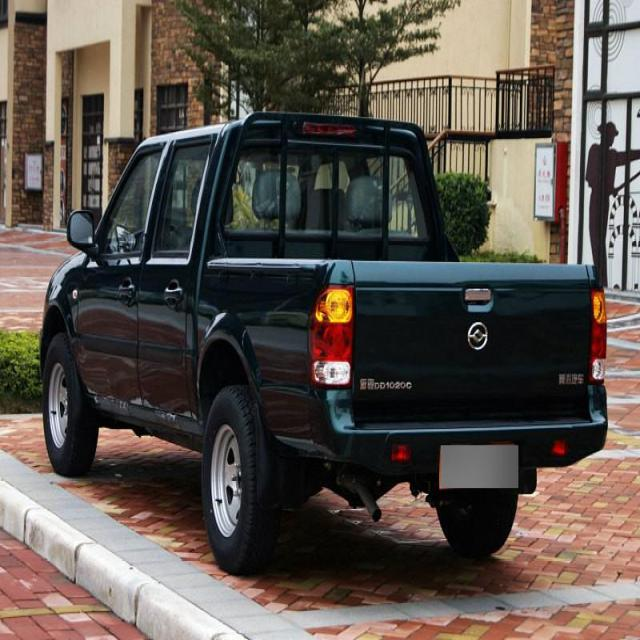back_glass: (215, 134, 435, 247)
back_left_side_light: (307, 279, 355, 392)
back_right_side_light: (587, 282, 611, 392)
door: (139, 141, 212, 408)
front_left_side_door: (71, 135, 171, 415)
front_left_side_mirror: (66, 208, 102, 260)
rear_bumper: (252, 376, 610, 474)
wheel: (199, 384, 280, 576), (40, 334, 100, 475), (431, 482, 519, 561)
